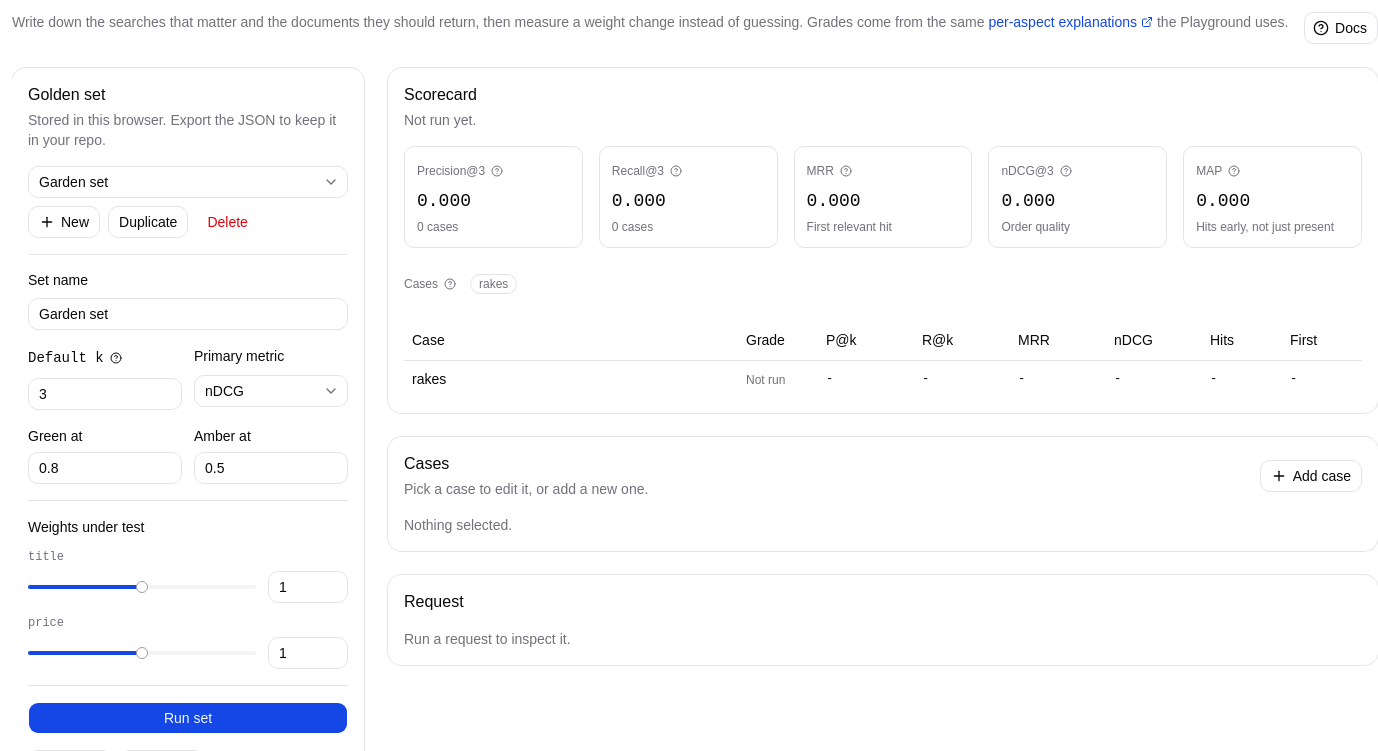
Test case: IndexScorecardPage › duplicates the set and drops the previous run
Click the button "Run set". click: (188, 718)
box: [28,702,348,734]
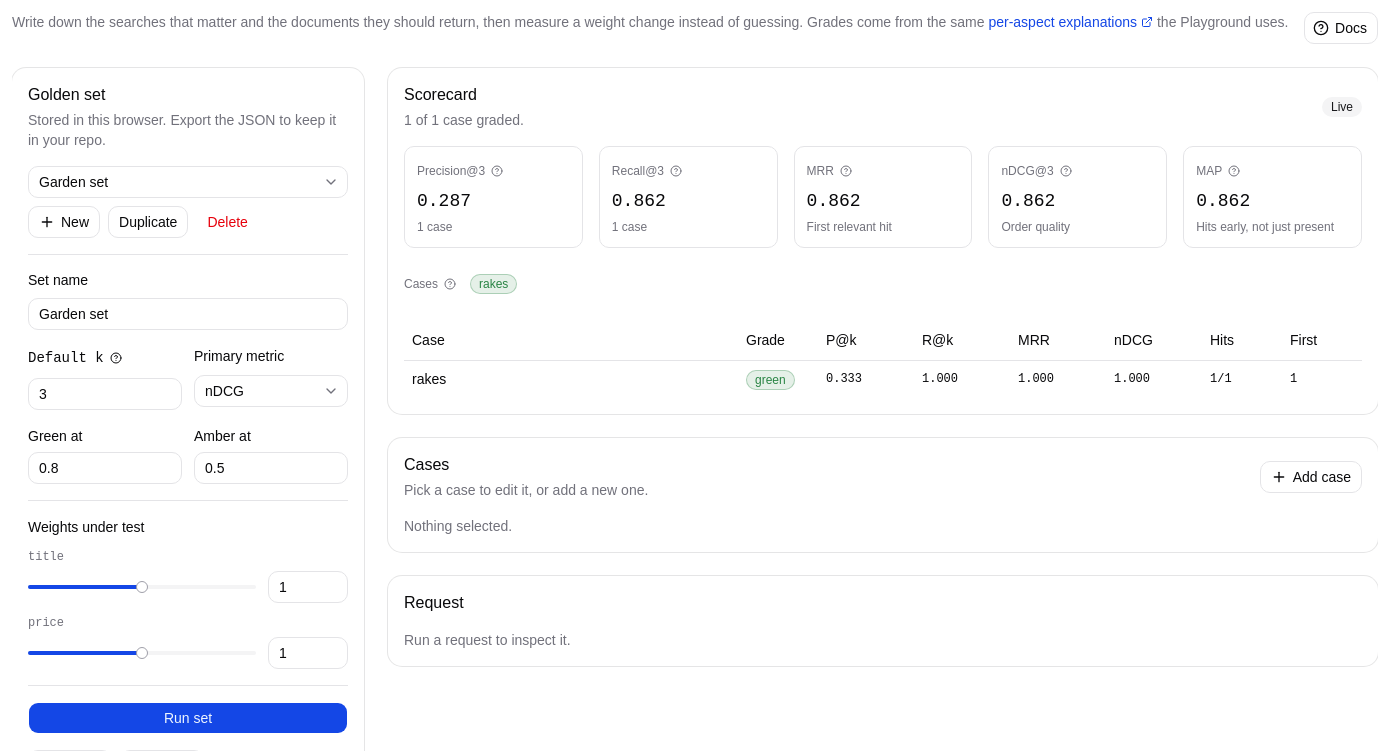
Now the icon "green" is shown, box [746,370,795,390]
Click the button "Duplicate". click: (148, 222)
box: [108,206,188,238]
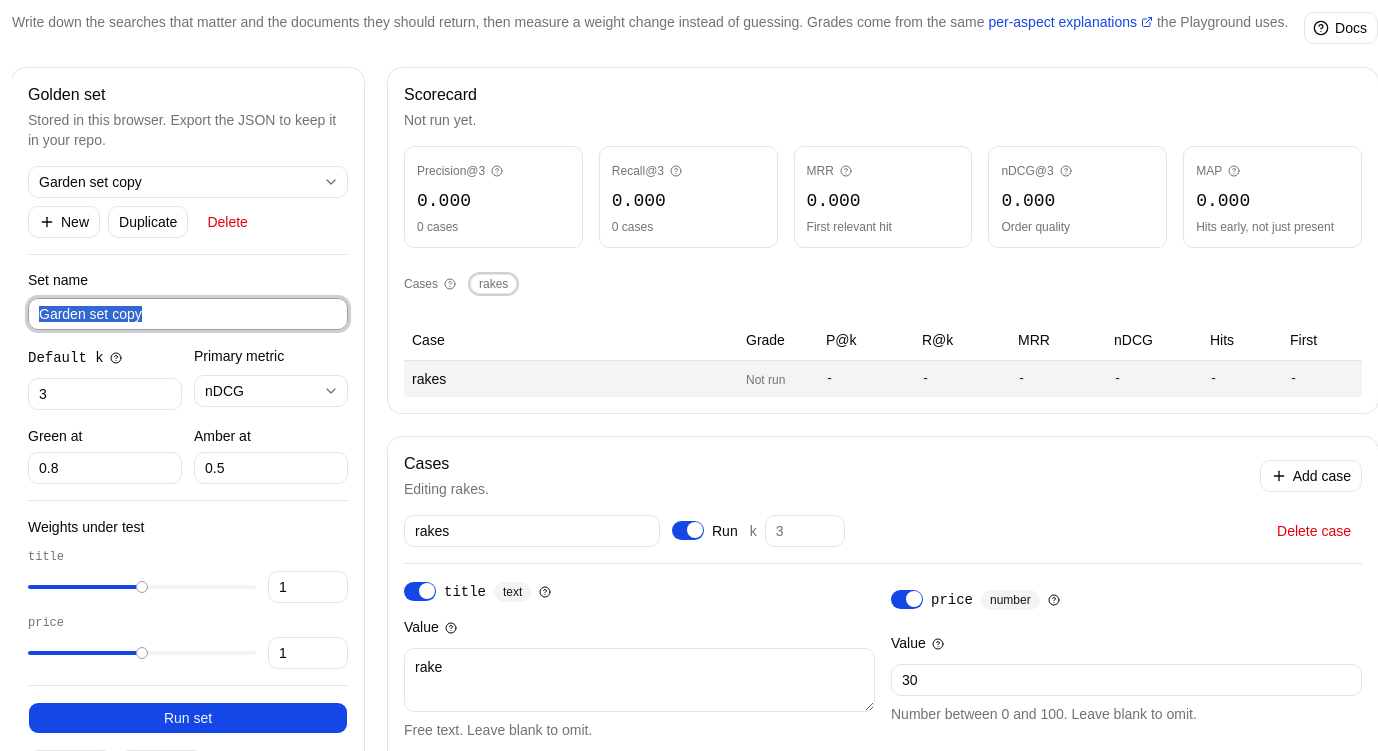
Now the text "Not run yet." is shown, box [404,110,477,130]
Now the text "Garden set copy" is shown, box [39,174,142,190]
